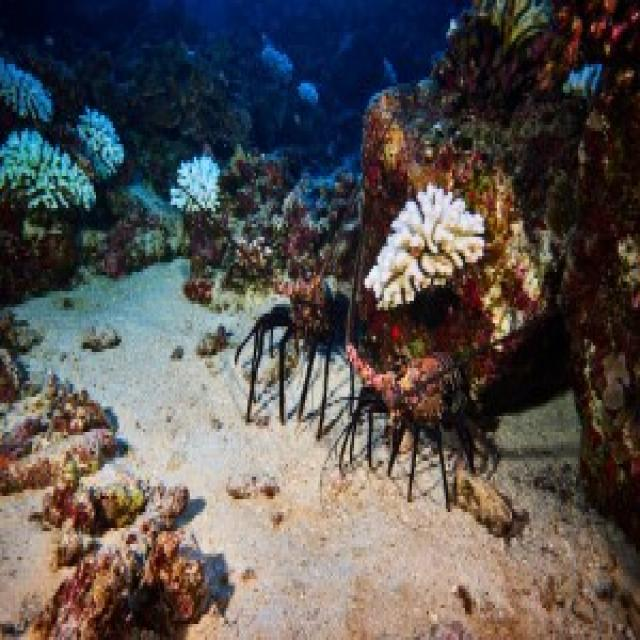lobsters: (345, 300, 522, 521), (214, 247, 345, 440)
